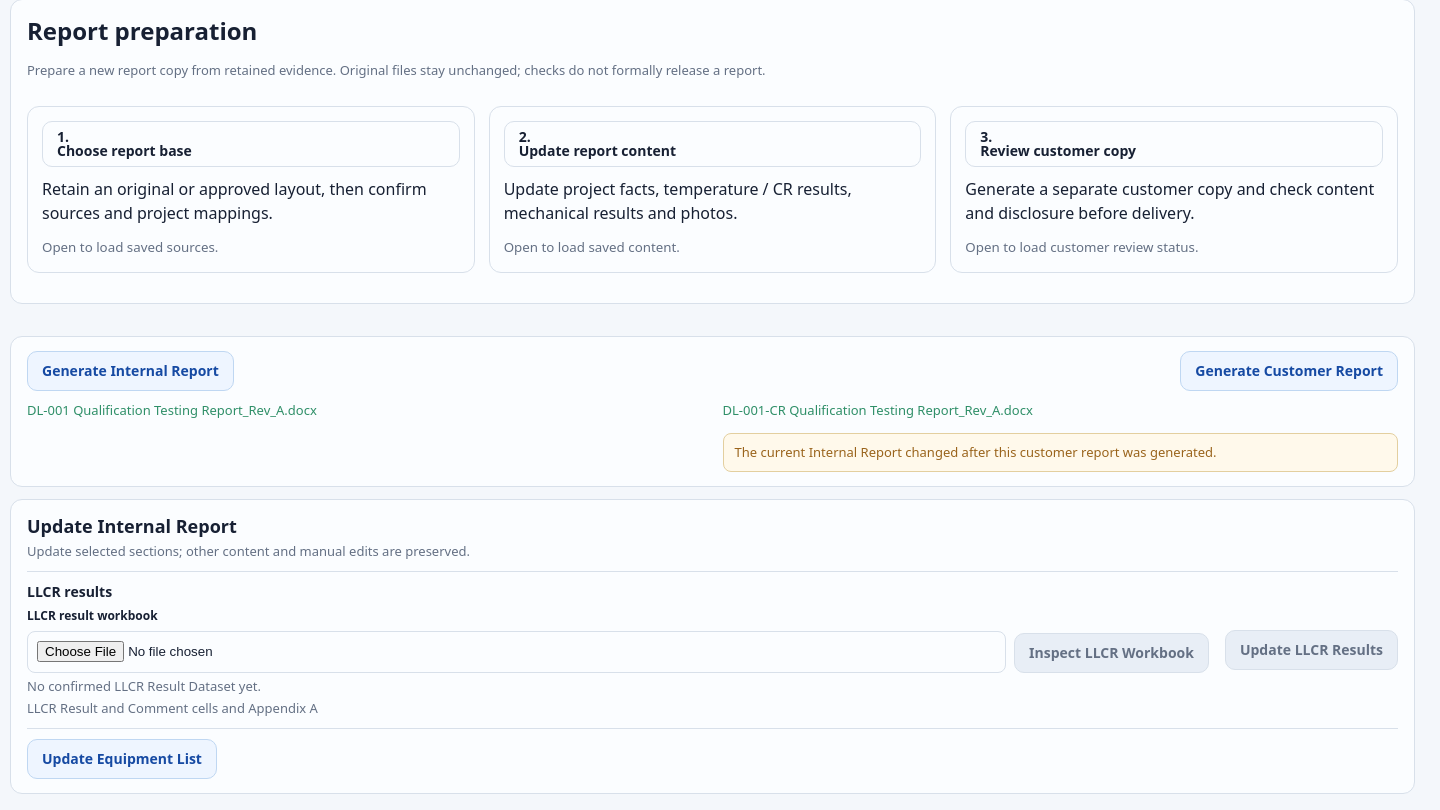
Test case: ReportWorkspace › finishes a healthy equipment update without opening a completion dialog (changed=true)
(page scrolled)
Click the button "Update Equipment List" at (122, 759), box [27,739,217,779]
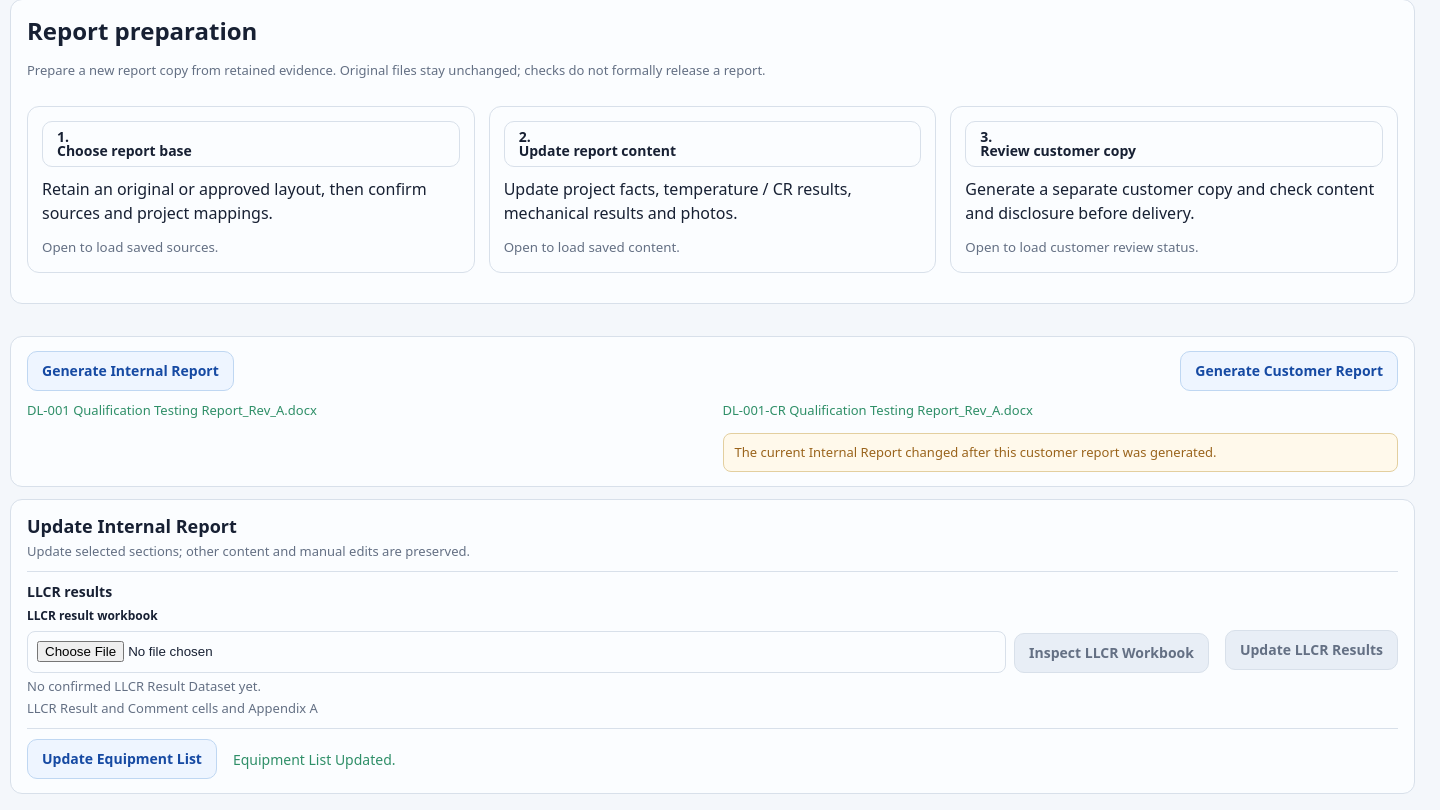
Now the message named "Equipment List update status" reads "Equipment List Updated.", box [233,750,396,769]
